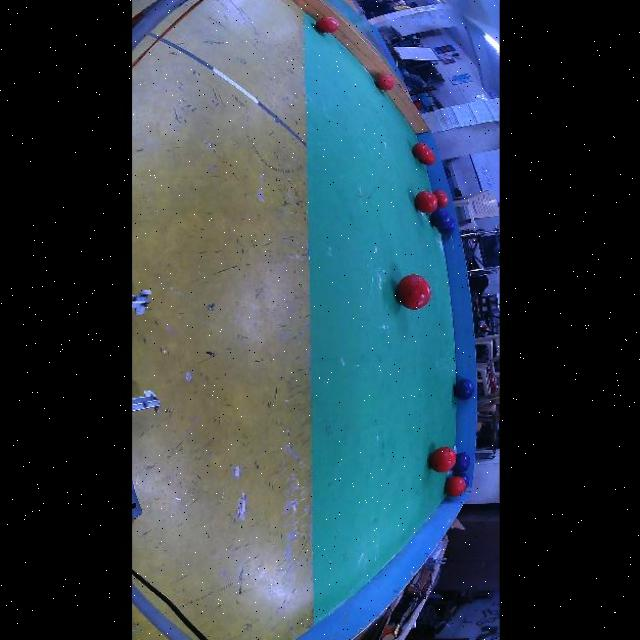P: (428, 209, 449, 229), (453, 379, 473, 400), (451, 453, 469, 473), (438, 218, 455, 234), (454, 473, 468, 487)
R: (395, 275, 430, 310), (428, 446, 455, 473), (413, 191, 436, 214), (444, 476, 464, 497), (315, 17, 338, 33), (412, 143, 430, 160), (433, 189, 448, 209), (375, 76, 394, 91), (419, 151, 435, 165)
